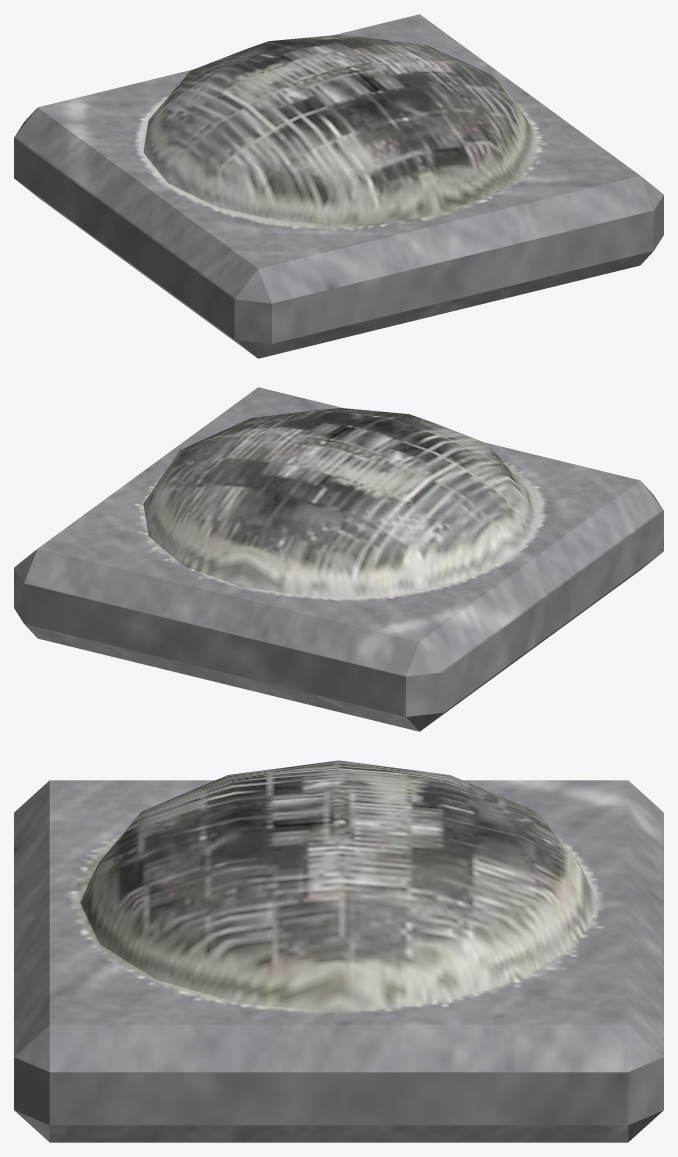
File: Headlight.FBX
The picture shows the model from 3 angles, top to bottom: view 1: azimuth 30°, elevation 25°; view 2: azimuth 150°, elevation 25°; view 3: azimuth 270°, elevation 25°; orthographic projection. The views are drawn at different scales.
Parts seen in each view (by area): view 1: Box01; view 2: Box01; view 3: Box01.
Boxes of the visible parts, x1,y1,x2,y2 form: Box01: (14,14,663,358); Box01: (14,387,663,731); Box01: (14,760,663,1142).
Bounding box in the file's own units: 7.87 × 2.8 × 7.87.
